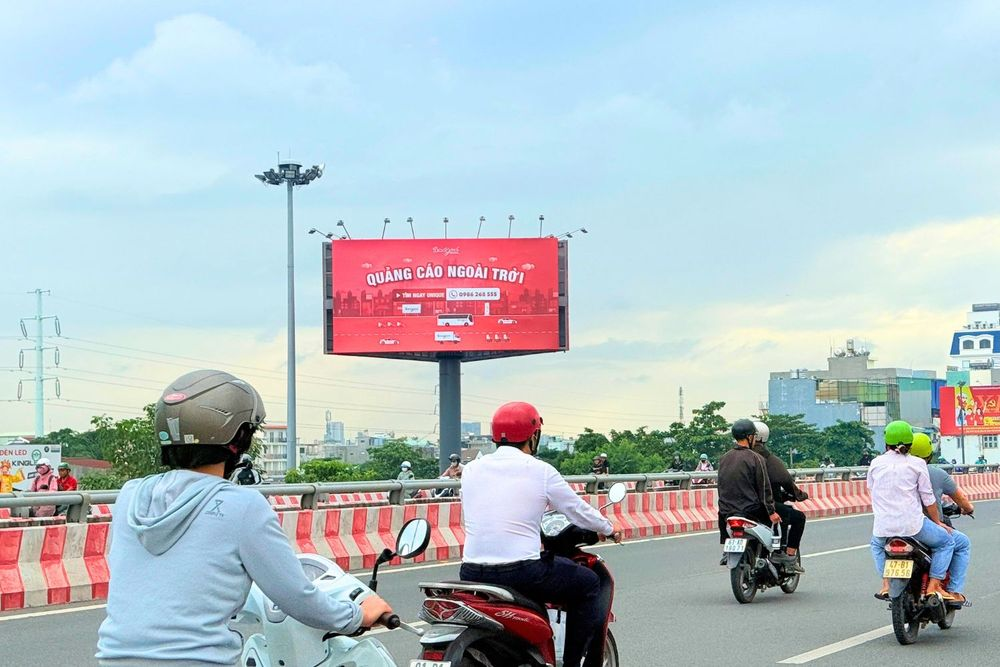bien_so: (881, 558, 915, 582), (722, 534, 748, 556)
